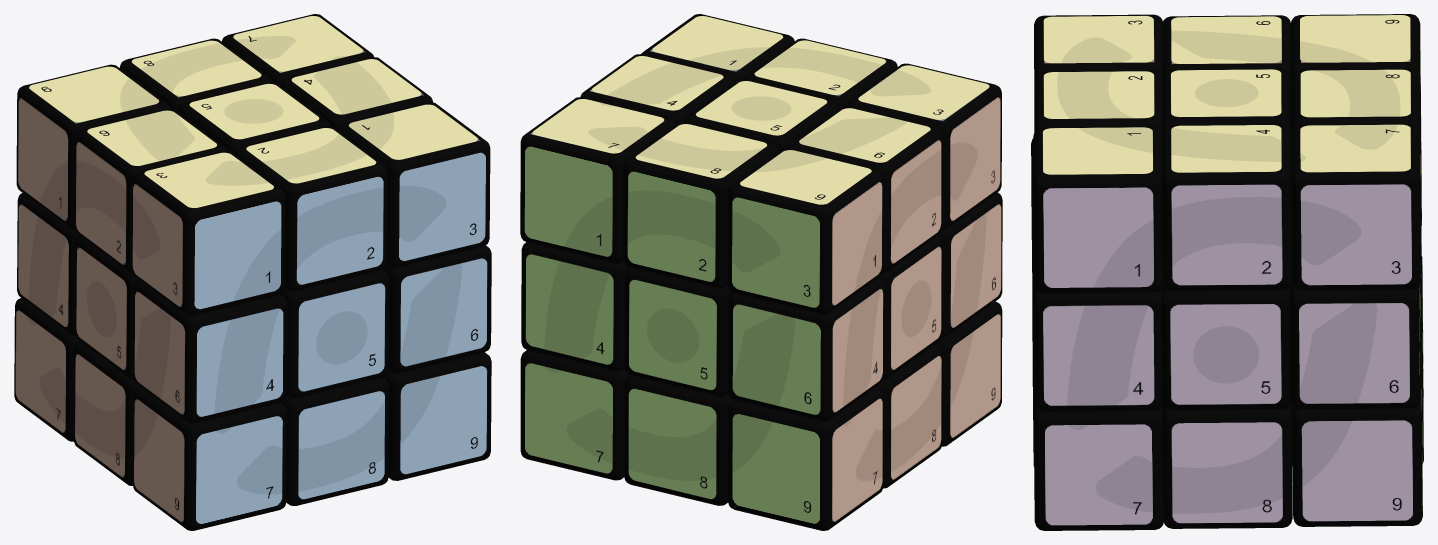
The model's file is Rubix_cube_PASTEL_transFinal_.glb.
The picture shows the model from 3 angles, left to right: view 1: azimuth 30°, elevation 25°; view 2: azimuth 150°, elevation 25°; view 3: azimuth 270°, elevation 25°; orthographic projection. The views are drawn at different scales.
Parts seen in each view (by area): view 1: s1_block_4.001, s1_block_2.001, s1_block_1.001, s1_block_6.001, s1_block_5.001, s1_block_9.001, s1_block_3.001, s1_block_8.001, s1_block_7.001, top_block_3.002, s2_block_4.001, s2_block_5.001 (+34 smaller); view 2: s3_block_8.001, s3_block_9.001, s3_block_2.001, s3_block_4.001, s3_block_1.001, s3_block_6.001, s3_block_3.001, s3_block_7.001, s3_block_5.001, top_block_9.001, s2_block_6.001, s2_block_1.001 (+34 smaller); view 3: s4_block_9.001, s4_block_4.001, s4_block_5.001, s4_block_6.001, s4_block_2.001, s4_block_3.001, s4_block_7.001, s4_block_8.001, s4_block_1.001, top_block_7.002, top_block_4.002, top_block_1.002 (+21 smaller).
Boxes of the visible parts, x1,y1,x2,y2 form: s1_block_4.001: [196, 307, 283, 418]; s1_block_2.001: [296, 175, 383, 285]; s1_block_1.001: [194, 199, 281, 310]; s1_block_6.001: [400, 257, 487, 367]; s1_block_5.001: [298, 282, 385, 392]; s1_block_9.001: [400, 364, 487, 475]; s1_block_3.001: [399, 151, 485, 262]; s1_block_8.001: [298, 390, 384, 500]; s1_block_7.001: [196, 414, 282, 525]; top_block_3.002: [131, 150, 285, 315]; s2_block_4.001: [18, 202, 68, 329]; s2_block_5.001: [76, 245, 126, 372]; s3_block_8.001: [628, 387, 716, 500]; s3_block_9.001: [732, 412, 820, 525]; s3_block_2.001: [627, 170, 715, 282]; s3_block_4.001: [525, 253, 613, 366]; s3_block_1.001: [524, 145, 612, 257]; s3_block_6.001: [732, 303, 820, 416]; s3_block_3.001: [732, 196, 819, 309]; s3_block_7.001: [525, 362, 612, 474]; s3_block_5.001: [629, 278, 716, 391]; top_block_9.001: [727, 148, 883, 314]; s2_block_6.001: [950, 202, 1001, 329]; s2_block_1.001: [831, 180, 882, 307]; s4_block_9.001: [1301, 420, 1413, 521]; s4_block_4.001: [1043, 305, 1154, 406]; s4_block_5.001: [1170, 303, 1281, 404]; s4_block_6.001: [1299, 302, 1410, 403]; s4_block_2.001: [1171, 184, 1282, 285]; s4_block_3.001: [1300, 184, 1412, 285]; s4_block_7.001: [1043, 424, 1154, 525]; s4_block_8.001: [1171, 422, 1282, 523]; s4_block_1.001: [1043, 187, 1154, 287]; top_block_7.002: [1291, 123, 1421, 290]; top_block_4.002: [1162, 124, 1292, 290]; top_block_1.002: [1033, 126, 1163, 293].
Bounding box in the file's own units: 6.07 × 6.1 × 6.06.
7 materials, 6 textured.
